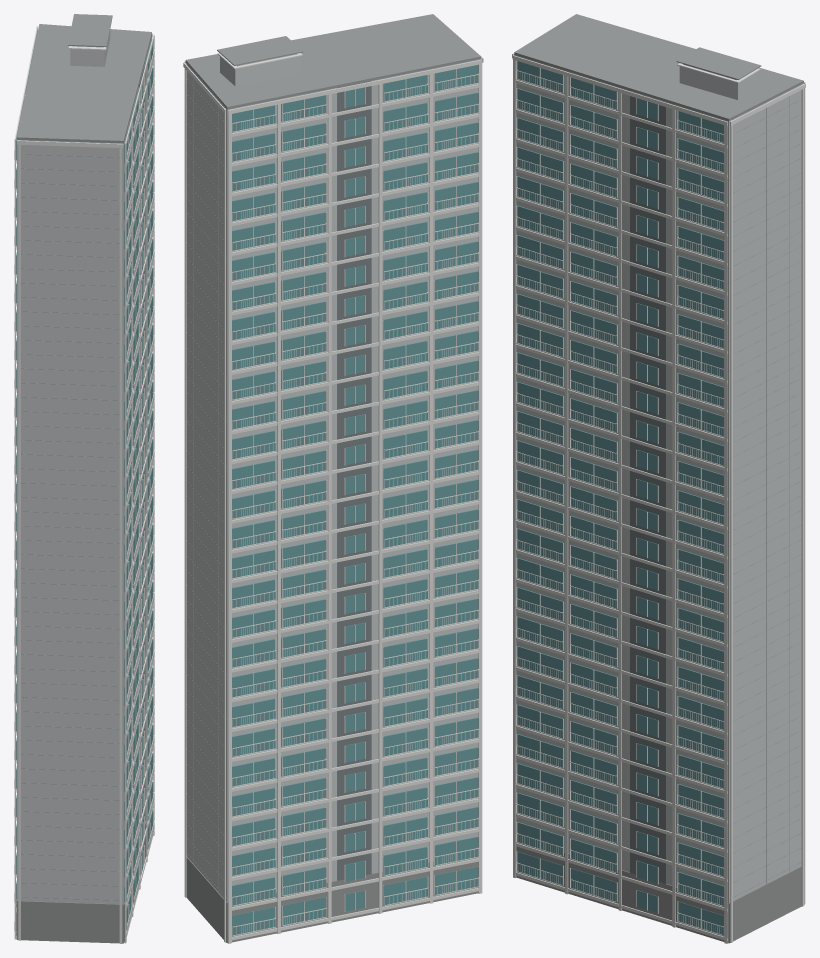
File: bespoke-jamsil-ricenz-226.glb
3 views of the same model, side by side, from view 1: azimuth 30°, elevation 25°; view 2: azimuth 150°, elevation 25°; view 3: azimuth 270°, elevation 25° (orthographic). The views are drawn at different scales.
Visible parts, largest first — view 1: Ricenz226_editable_Ricenz226_light_grey_solid_wall, Ricenz226_editable_Ricenz226_modest_grey_flat_roof_caps, Ricenz226_editable_Ricenz226_turquoise_balcony_glazing, Ricenz226_white_exact_chunk_1, Ricenz226_white_exact_chunk_2, Ricenz226_white_exact_chunk_3, Ricenz226_editable_Ricenz226_muted_ground_wall, Ricenz226_editable_Ricenz226_narrow_charcoal_service_strips; view 2: Ricenz226_editable_Ricenz226_turquoise_balcony_glazing, Ricenz226_editable_Ricenz226_light_grey_solid_wall, Ricenz226_white_exact_chunk_1, Ricenz226_white_exact_chunk_0, Ricenz226_editable_Ricenz226_modest_grey_flat_roof_caps, Ricenz226_editable_Ricenz226_narrow_charcoal_service_strips, Ricenz226_editable_Ricenz226_muted_ground_wall, Ricenz226_white_exact_chunk_3; view 3: Ricenz226_editable_Ricenz226_light_grey_solid_wall, Ricenz226_editable_Ricenz226_turquoise_balcony_glazing, Ricenz226_white_exact_chunk_2, Ricenz226_white_exact_chunk_3, Ricenz226_editable_Ricenz226_modest_grey_flat_roof_caps, Ricenz226_editable_Ricenz226_narrow_charcoal_service_strips, Ricenz226_white_exact_chunk_1, Ricenz226_editable_Ricenz226_muted_ground_wall.
Boxes of the visible parts, left/top/right/bottom form: Ricenz226_editable_Ricenz226_light_grey_solid_wall: left=17, top=30, right=151, bottom=904; Ricenz226_editable_Ricenz226_modest_grey_flat_roof_caps: left=17, top=14, right=151, bottom=900; Ricenz226_editable_Ricenz226_turquoise_balcony_glazing: left=16, top=32, right=152, bottom=928; Ricenz226_white_exact_chunk_1: left=14, top=26, right=133, bottom=943; Ricenz226_white_exact_chunk_2: left=126, top=76, right=154, bottom=911; Ricenz226_white_exact_chunk_3: left=68, top=22, right=154, bottom=943; Ricenz226_editable_Ricenz226_muted_ground_wall: left=16, top=809, right=152, bottom=943; Ricenz226_editable_Ricenz226_narrow_charcoal_service_strips: left=26, top=66, right=144, bottom=835; Ricenz226_editable_Ricenz226_turquoise_balcony_glazing: left=232, top=65, right=478, bottom=935; Ricenz226_editable_Ricenz226_light_grey_solid_wall: left=185, top=53, right=481, bottom=902; Ricenz226_white_exact_chunk_1: left=228, top=57, right=483, bottom=943; Ricenz226_white_exact_chunk_0: left=232, top=87, right=429, bottom=940; Ricenz226_editable_Ricenz226_modest_grey_flat_roof_caps: left=185, top=14, right=481, bottom=894; Ricenz226_editable_Ricenz226_narrow_charcoal_service_strips: left=337, top=81, right=371, bottom=880; Ricenz226_editable_Ricenz226_muted_ground_wall: left=186, top=856, right=478, bottom=943; Ricenz226_white_exact_chunk_3: left=183, top=53, right=302, bottom=942; Ricenz226_editable_Ricenz226_light_grey_solid_wall: left=514, top=55, right=803, bottom=902; Ricenz226_editable_Ricenz226_turquoise_balcony_glazing: left=517, top=61, right=724, bottom=934; Ricenz226_white_exact_chunk_2: left=516, top=60, right=727, bottom=940; Ricenz226_white_exact_chunk_3: left=512, top=55, right=805, bottom=943; Ricenz226_editable_Ricenz226_modest_grey_flat_roof_caps: left=514, top=14, right=803, bottom=897; Ricenz226_editable_Ricenz226_narrow_charcoal_service_strips: left=630, top=91, right=666, bottom=883; Ricenz226_white_exact_chunk_1: left=512, top=53, right=805, bottom=903; Ricenz226_editable_Ricenz226_muted_ground_wall: left=516, top=841, right=804, bottom=943.
Size of the model in its own units: 23.11 by 85.53 by 26.89.
